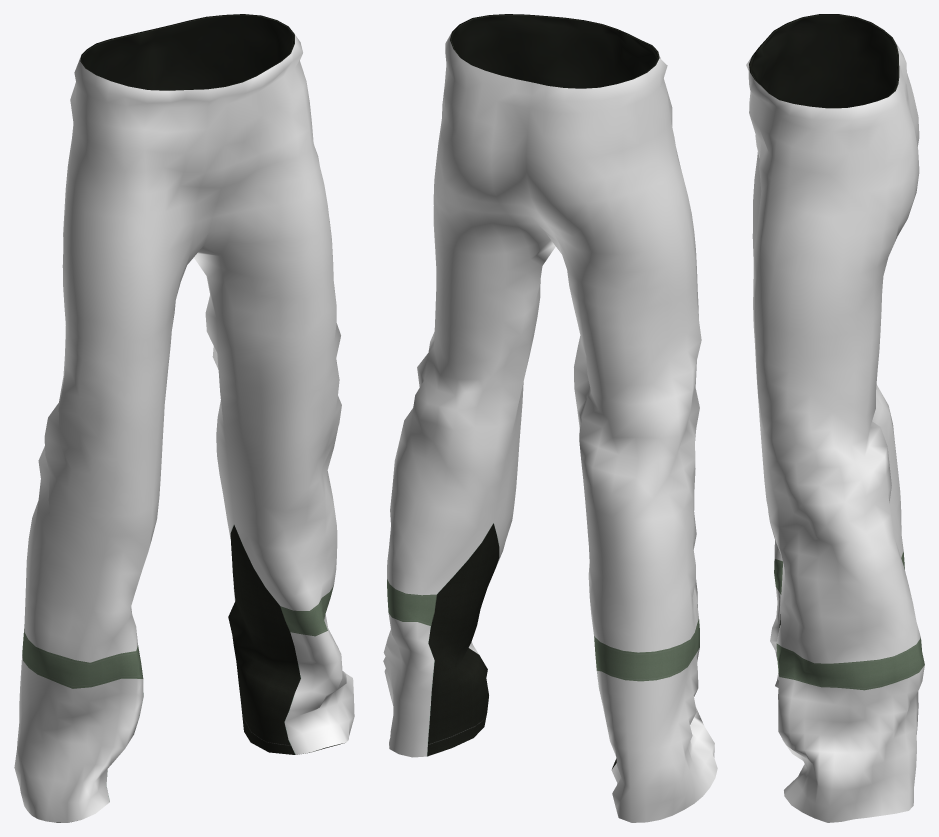
Rendered from Pants.gltf.
The picture shows the model from 3 angles, left to right: view 1: azimuth 30°, elevation 25°; view 2: azimuth 150°, elevation 25°; view 3: azimuth 270°, elevation 25°; orthographic projection. The views are drawn at different scales.
Visible parts, largest first — view 1: Pants_LP:Mesh; view 2: Pants_LP:Mesh; view 3: Pants_LP:Mesh.
Part boxes in pixels (<box>): Pants_LP:Mesh: <box>14,14,354,822</box>; Pants_LP:Mesh: <box>383,14,717,822</box>; Pants_LP:Mesh: <box>746,14,924,822</box>.
Size of the model in its own units: 47.95 by 108 by 24.74.
1 material, 1 textured.
